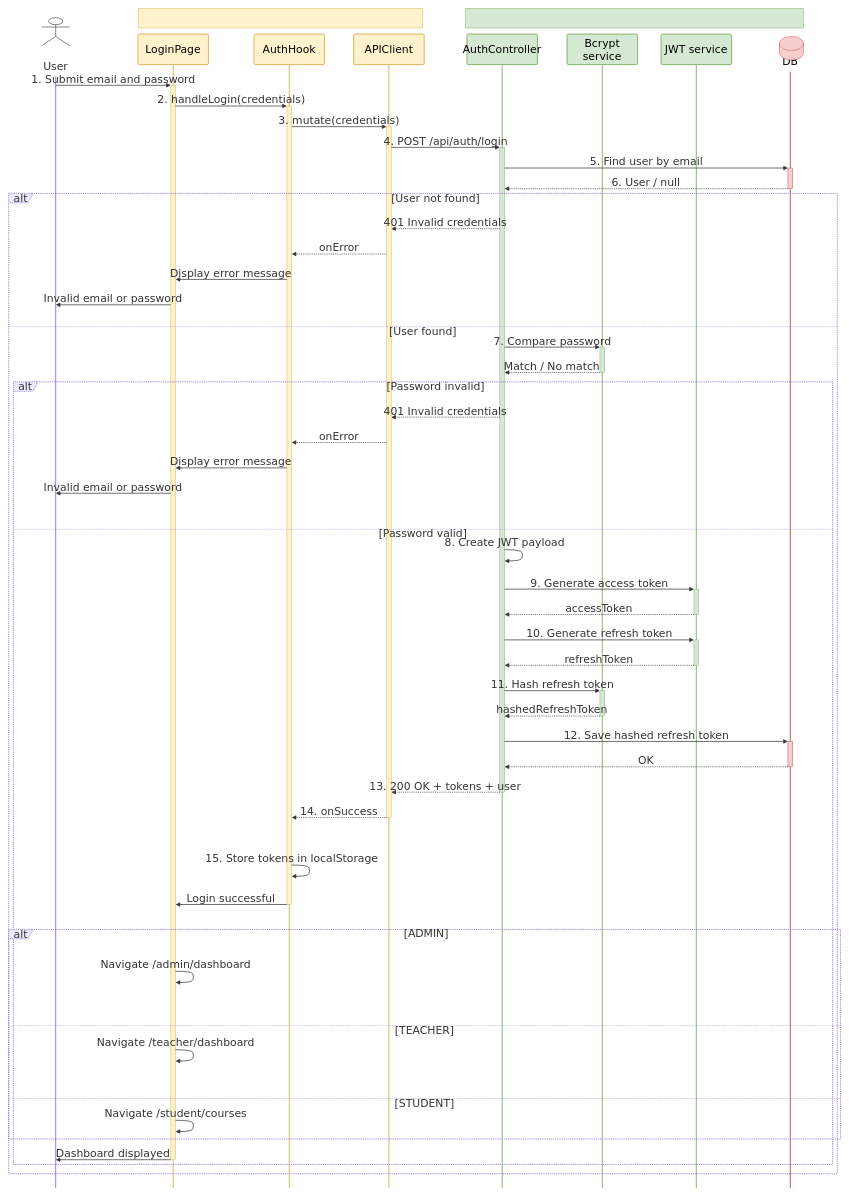
This 849x1197 diagram has some shape labels left out. Each missing label, with the box of its shape:
Backend: (465, 8, 803, 28)
Frontend: (138, 8, 423, 28)
